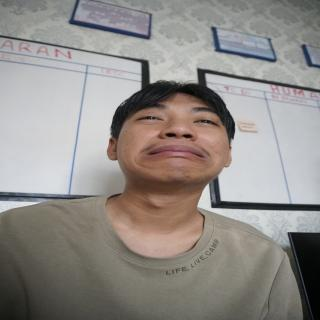Sedih: (105, 82, 240, 187)
